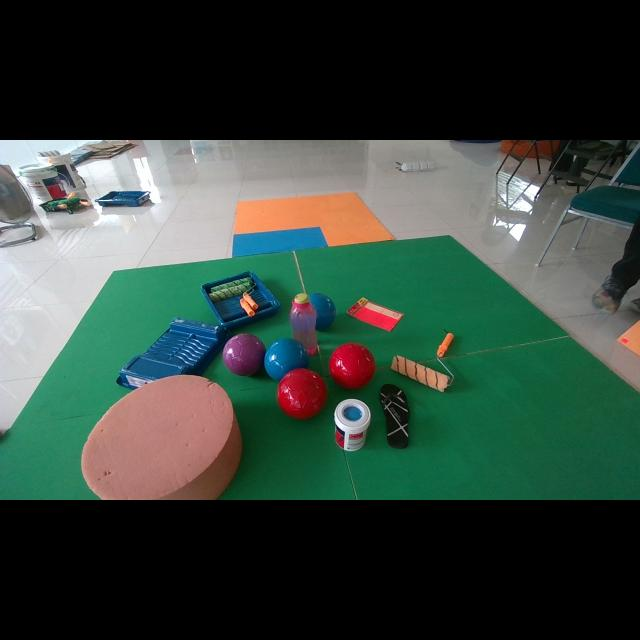B: (264, 339, 309, 381), (309, 292, 336, 331)
P: (222, 334, 266, 376)
R: (276, 369, 326, 419), (329, 342, 375, 388)
